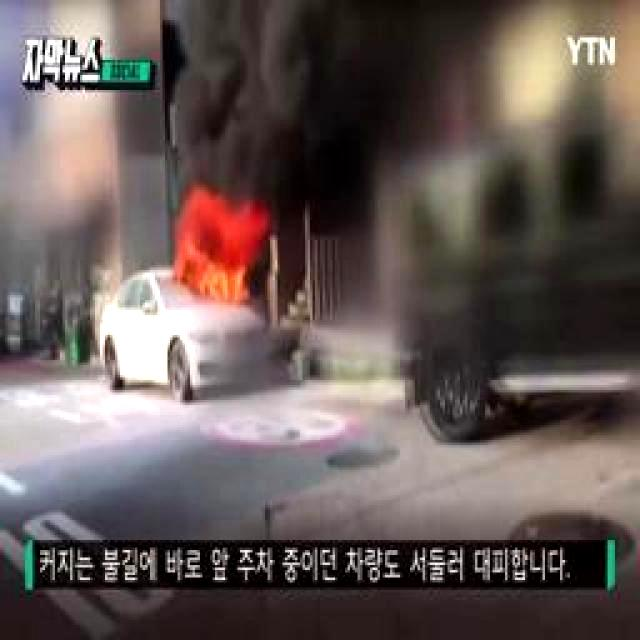Fire: (177, 209, 260, 305)
Smoke: (167, 0, 342, 202)
